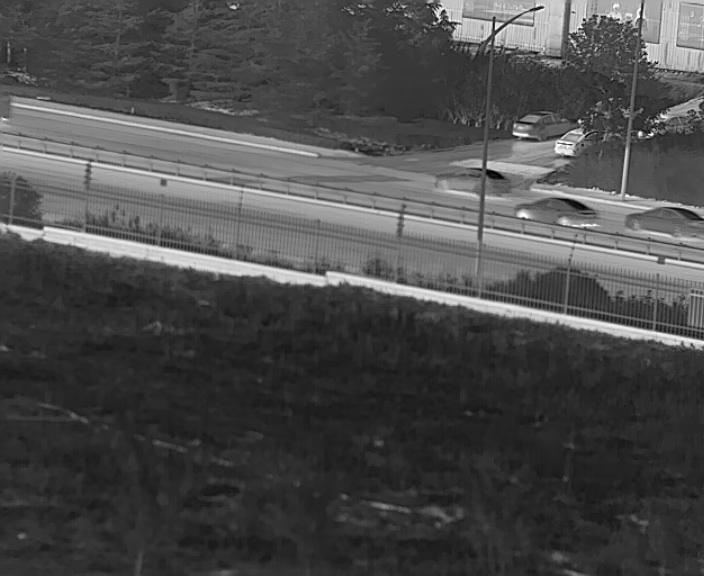vehicle: (625, 206, 703, 238), (515, 198, 599, 227), (434, 169, 509, 195), (512, 112, 563, 140), (553, 127, 590, 158)
